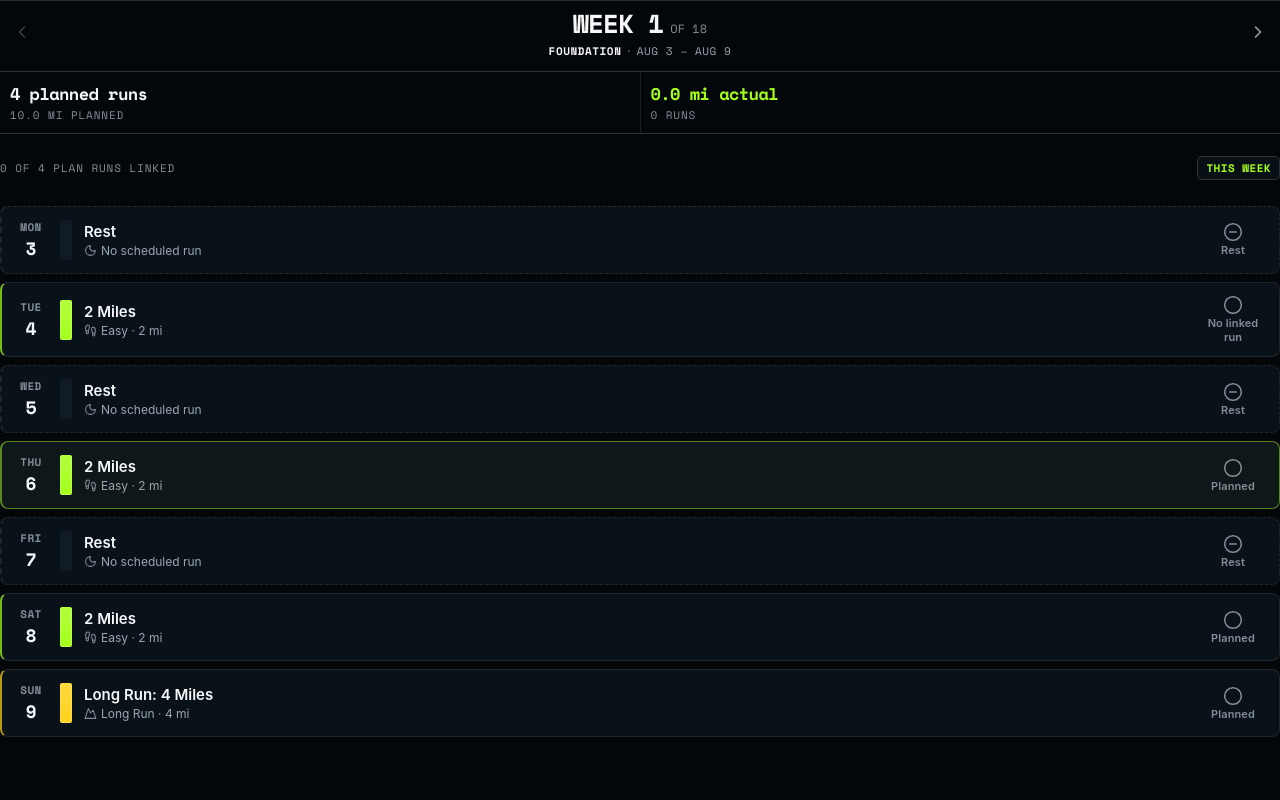
Test: editing a planned workout › rejects a target that is not miles or a range of them
Click the button with aria-label "Saturday, August 8, 2 Miles, Easy, 2 mi". click: {"x": 110, "y": 619}
box: [2,594,1279,660]
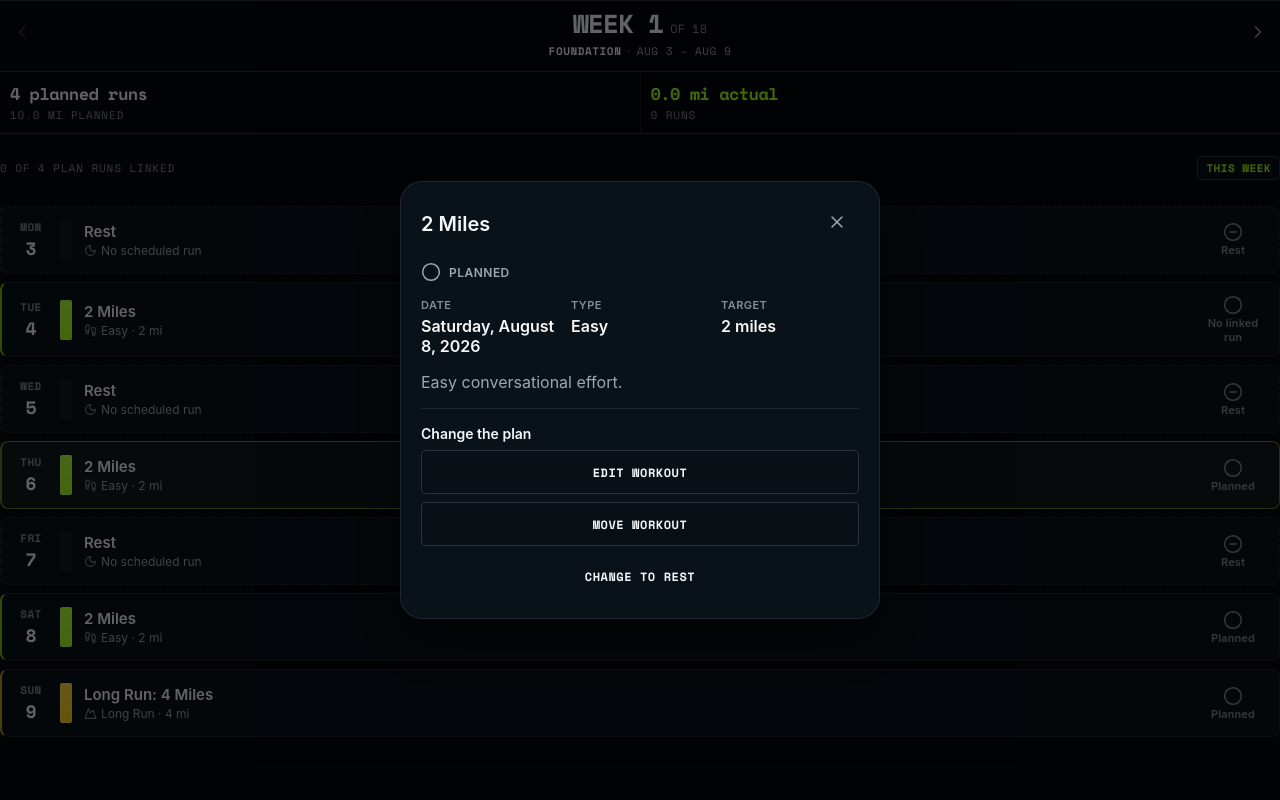
Click the button "Edit Workout". click: {"x": 640, "y": 472}
box: [421,450,859,494]
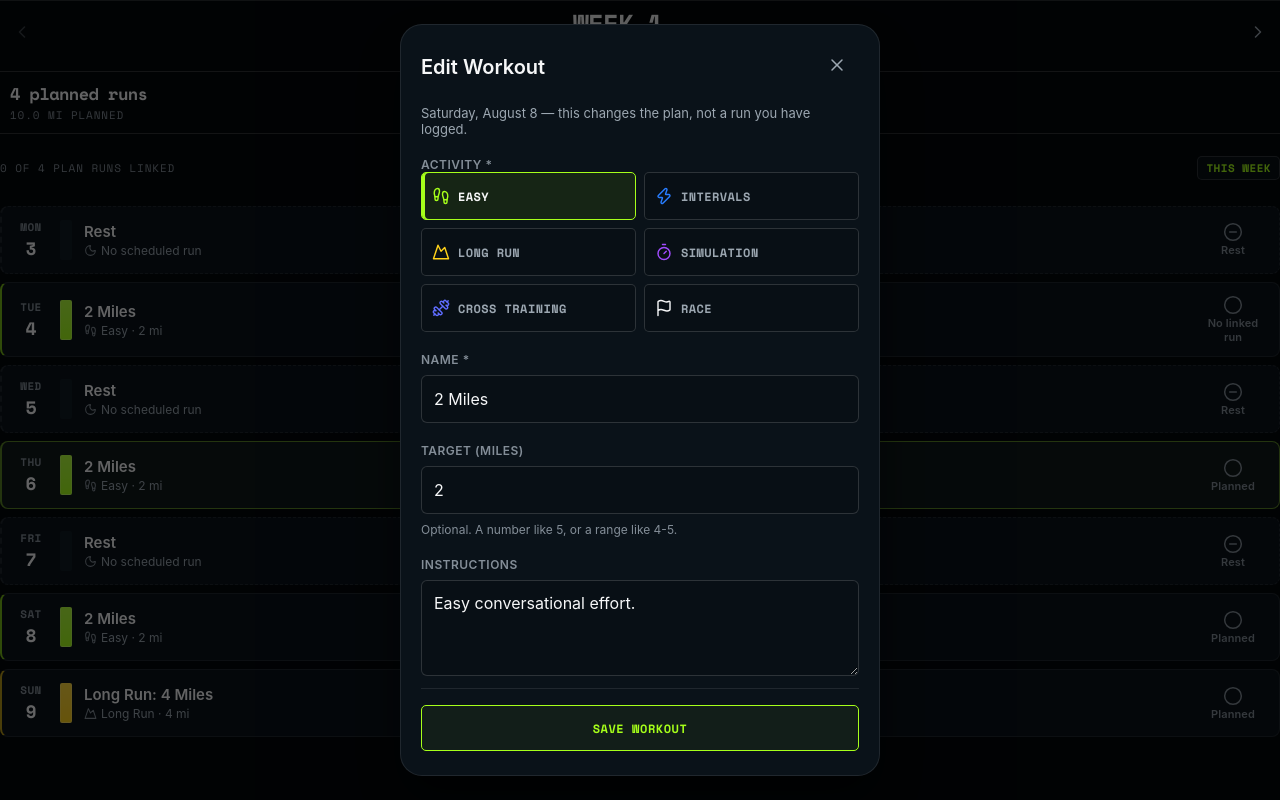
Replace the text in the field labelled "Target (miles)" with "about five". click: {"x": 640, "y": 490}
box: [421,466,859,514]
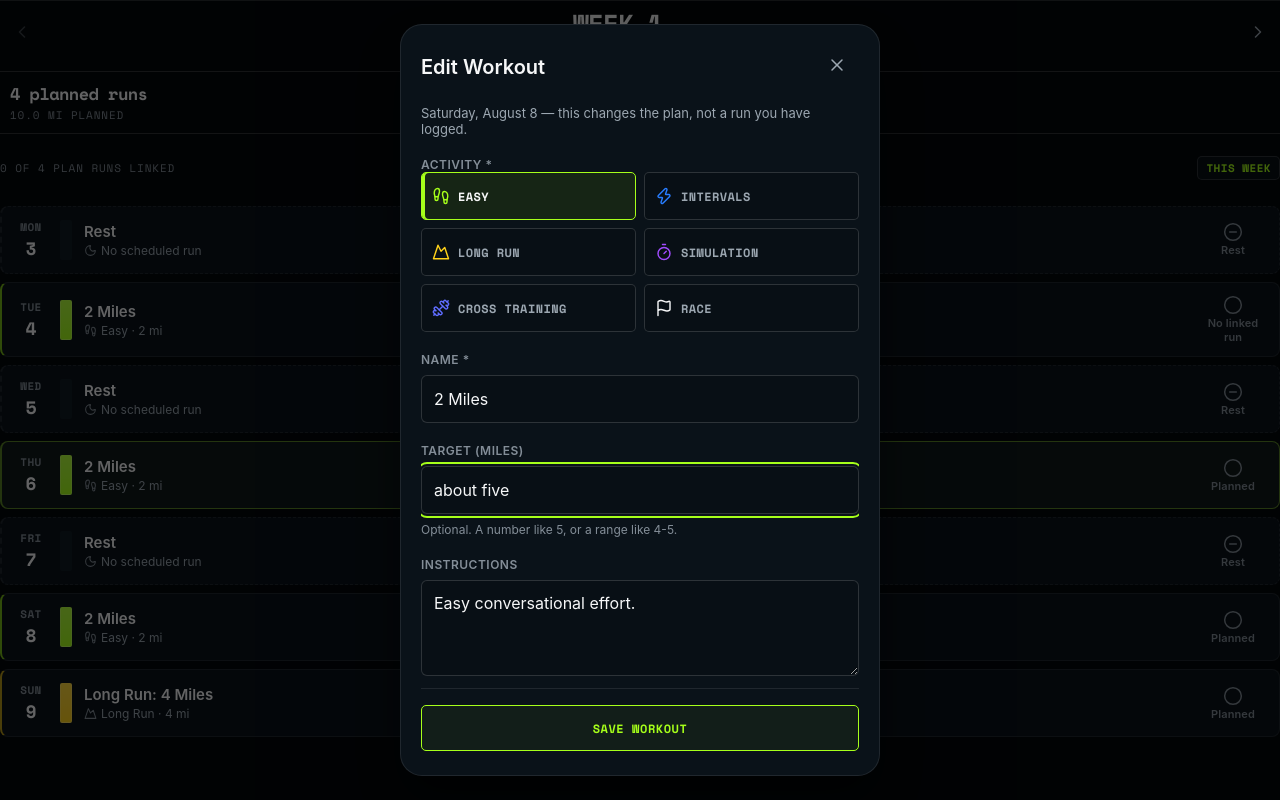
Click the button "Save Workout". click: {"x": 640, "y": 728}
box: [421,705,859,751]
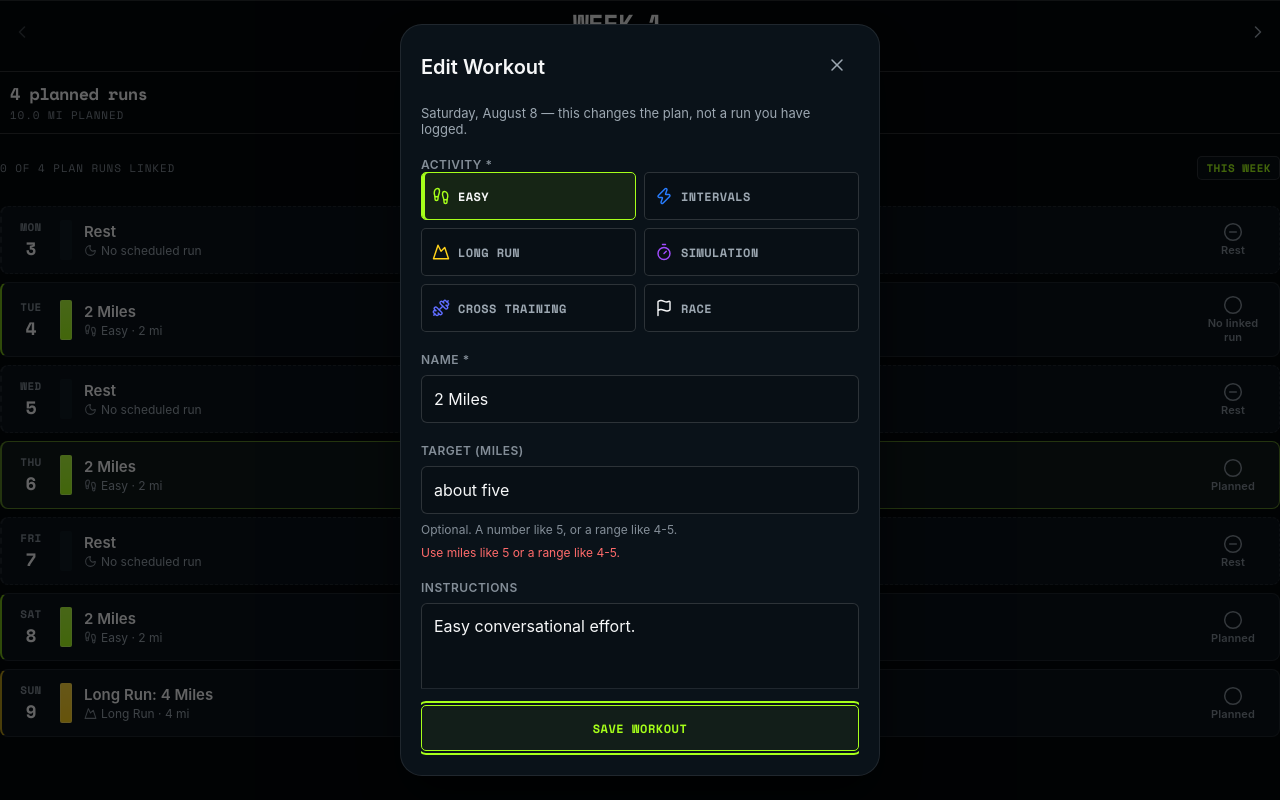
Now the text "Use miles like 5 or a range like 4-5." is shown, box [421,545,620,560]
